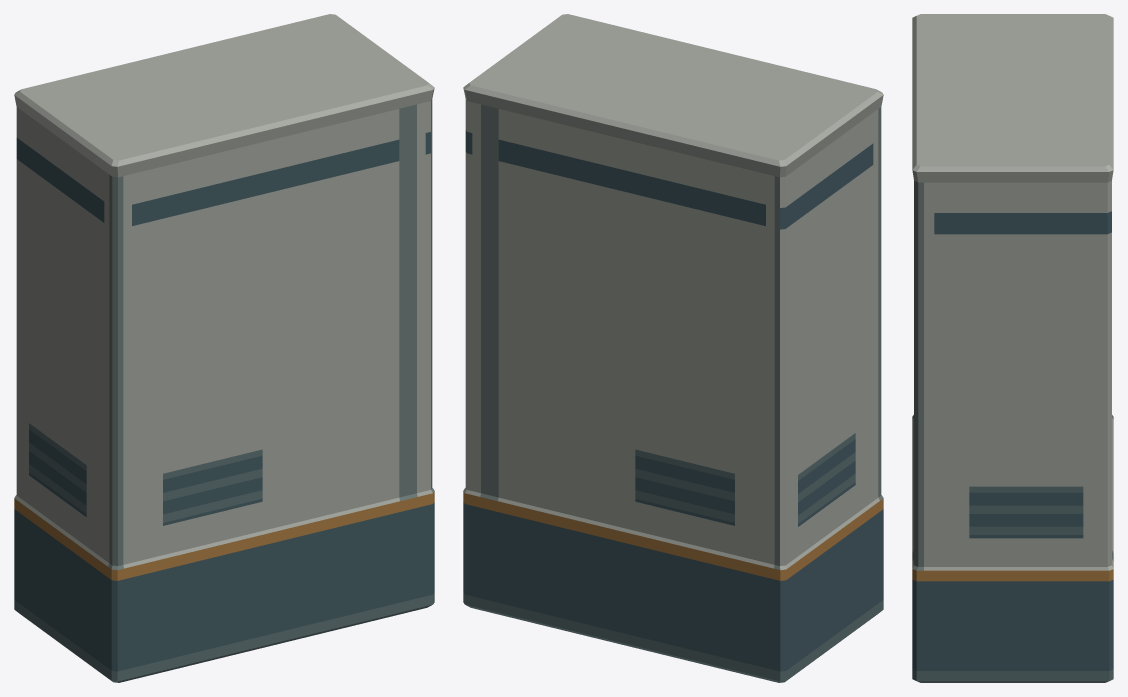
Rendered from wall-center-dogleg.glb.
3 renders of one model, left to right at view 1: azimuth 30°, elevation 25°; view 2: azimuth 150°, elevation 25°; view 3: azimuth 270°, elevation 25°, orthographic.
Parts seen in each view (by area): view 1: wall-center-dogleg-export; view 2: wall-center-dogleg-export; view 3: wall-center-dogleg-export.
Boxes of the visible parts, left/top/right/bottom form: wall-center-dogleg-export: left=14, top=14, right=434, bottom=682; wall-center-dogleg-export: left=463, top=14, right=883, bottom=682; wall-center-dogleg-export: left=912, top=14, right=1113, bottom=682.
Bounding box in the file's own units: 2.2 × 3.4 × 1.2.
